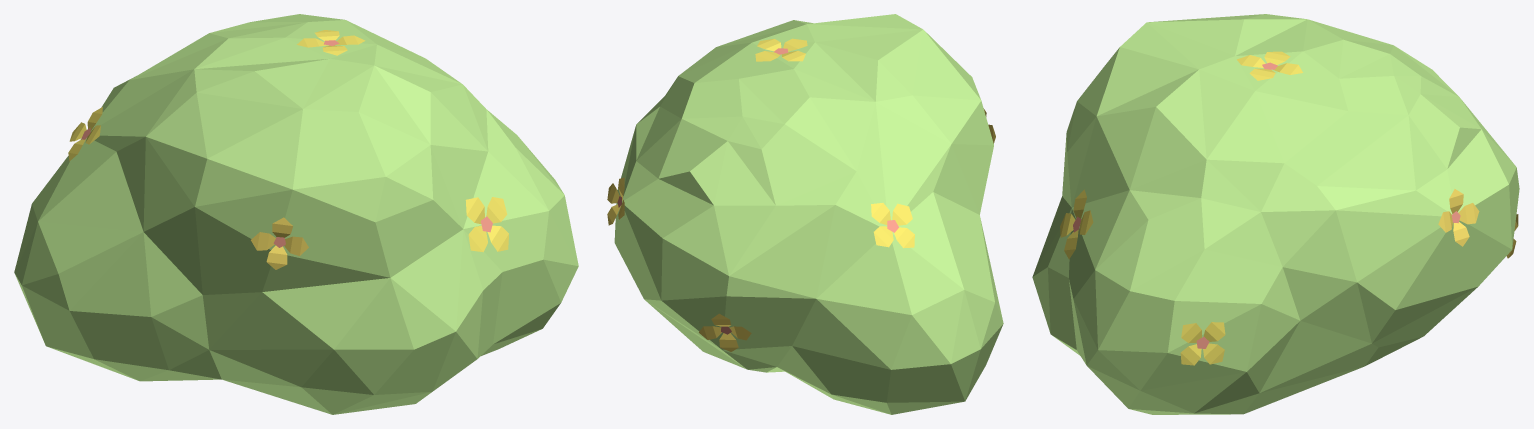
The model's file is FlowerBush_a_l_02.fbx.
3 renders of one model, left to right at view 1: azimuth 30°, elevation 25°; view 2: azimuth 150°, elevation 25°; view 3: azimuth 270°, elevation 25°, orthographic. The views are drawn at different scales.
Parts seen in each view (by area): view 1: FlowerBush_a_l_02; view 2: FlowerBush_a_l_02; view 3: FlowerBush_a_l_02.
Part boxes in pixels (x1,y1,x2,y2): FlowerBush_a_l_02: [14, 14, 578, 414]; FlowerBush_a_l_02: [607, 14, 1003, 414]; FlowerBush_a_l_02: [1032, 14, 1519, 414].
Bounding box in the file's own units: 336 × 228 × 314.
